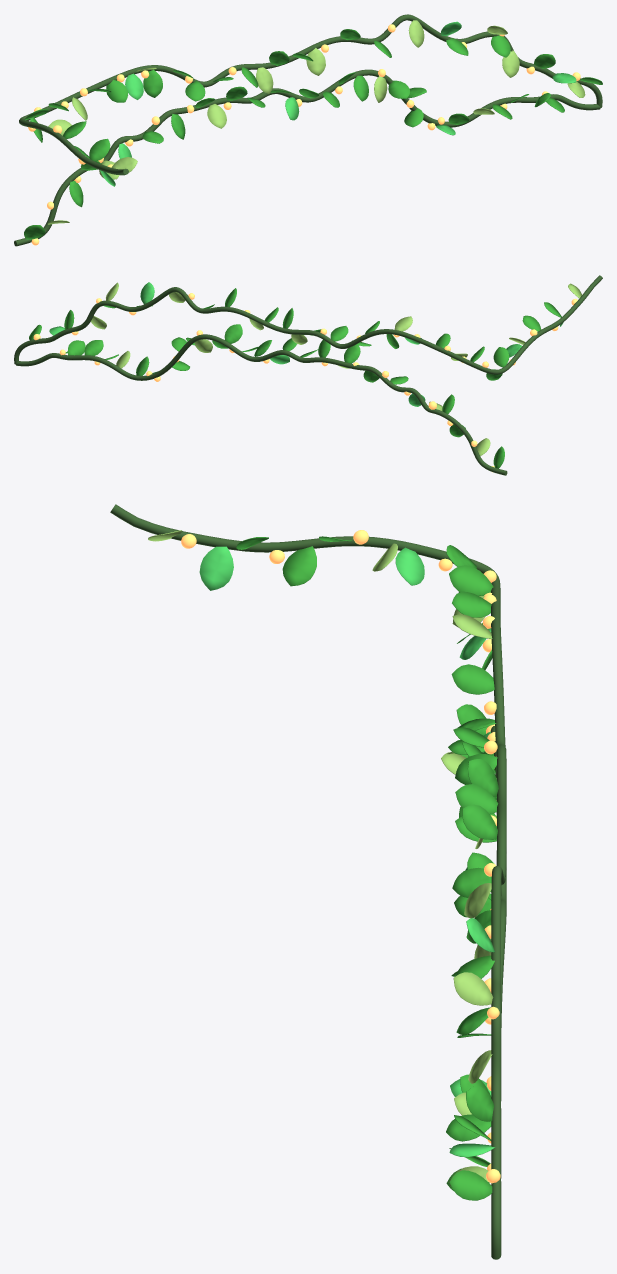
Rendered from WallPlant2.fbx.
The picture shows the model from 3 angles, top to bottom: view 1: azimuth 30°, elevation 25°; view 2: azimuth 150°, elevation 25°; view 3: azimuth 270°, elevation 25°; orthographic projection. The views are drawn at different scales.
Visible parts, largest first — view 1: NurbsPath.043; view 2: NurbsPath.043; view 3: NurbsPath.043.
Boxes of the visible parts, box(x1,y1,x2,y2) form: NurbsPath.043: box(14, 14, 602, 246); NurbsPath.043: box(14, 275, 602, 475); NurbsPath.043: box(110, 504, 506, 1259).
Bounding box in the file's own units: 4109 × 1111 × 1432.
